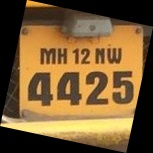character: (26, 71, 52, 107), (56, 70, 82, 106), (85, 70, 108, 104), (111, 69, 133, 103), (39, 46, 56, 65), (106, 46, 121, 63), (56, 46, 67, 64), (79, 47, 90, 64), (94, 47, 105, 63), (72, 47, 79, 64)
